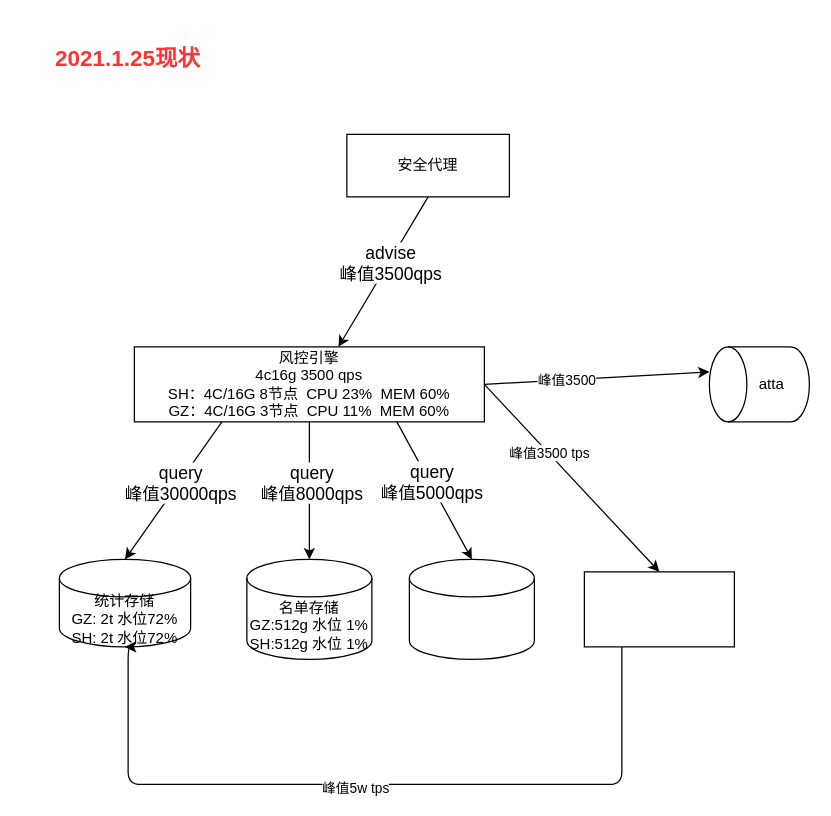
This 831x816 diagram has some shape labels left out. The shapes that lost their labels are listed below. From the top down, each one's box as (x1, y1, x2, y2) in pixels, then its label:
(408, 558, 534, 659): 画像存储 GZ:4t 水位60% SH:4t 水位60%
(583, 571, 734, 647): FLINK
